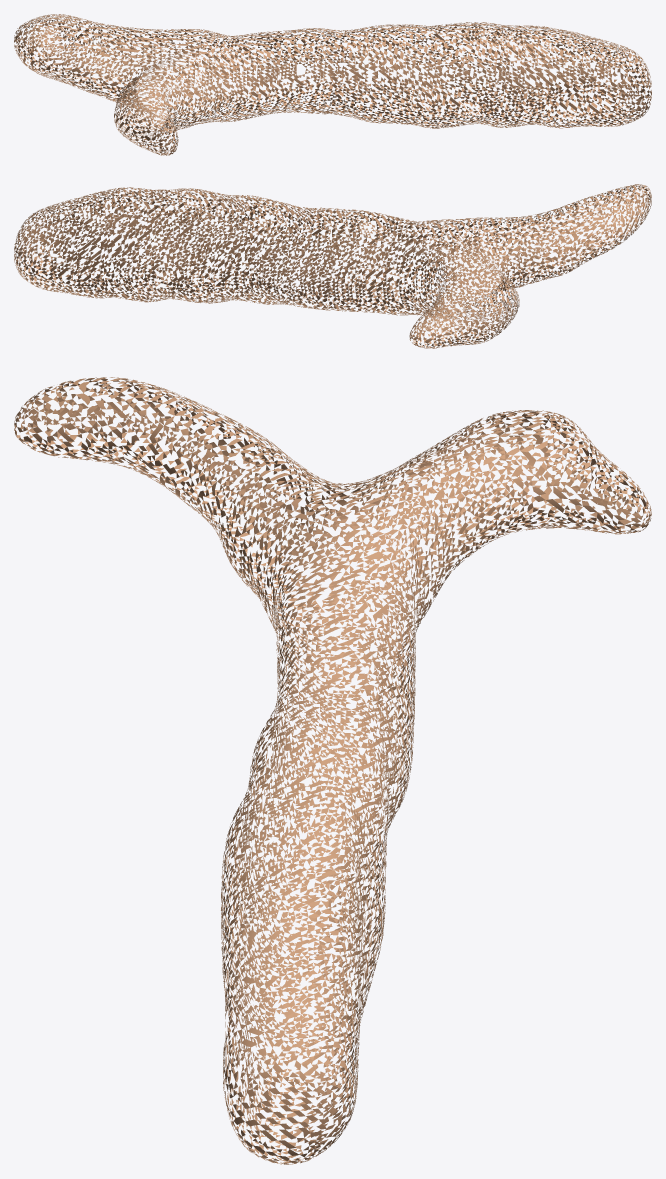
Rendered from morph_005.glb.
3 views of the same model, one above another, from view 1: azimuth 30°, elevation 25°; view 2: azimuth 150°, elevation 25°; view 3: azimuth 270°, elevation 25° (orthographic). The views are drawn at different scales.
Bounding box in the file's own units: 123 × 38.7 × 67.86.
